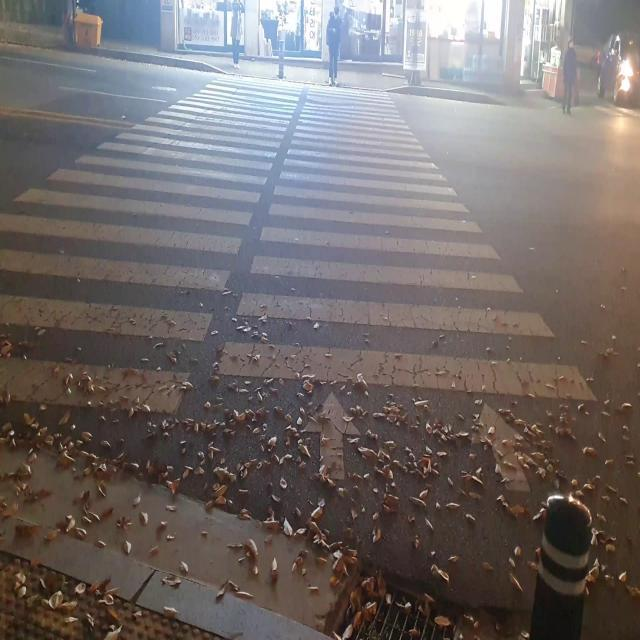crosswalk: (0, 74, 640, 501)
